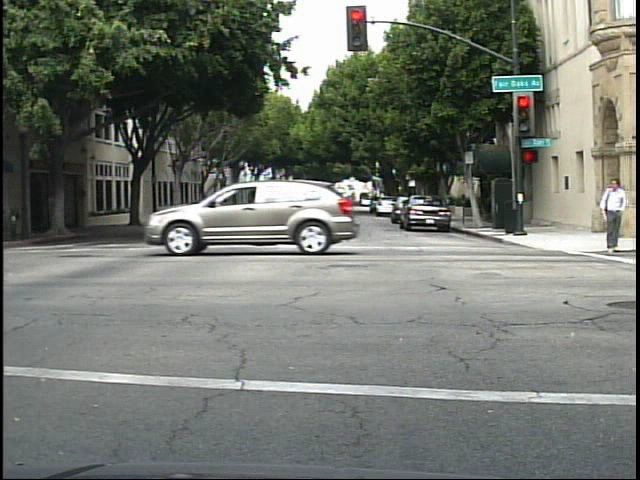person: (595, 170, 632, 253)
